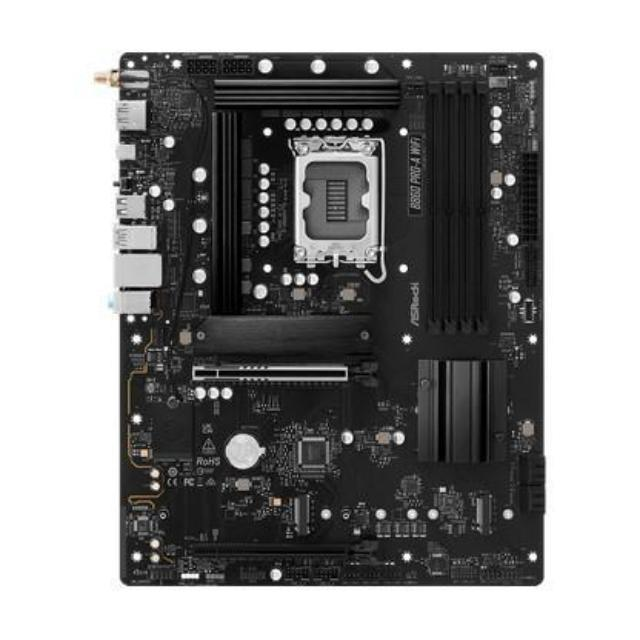Mainboard: (106, 44, 548, 593)
